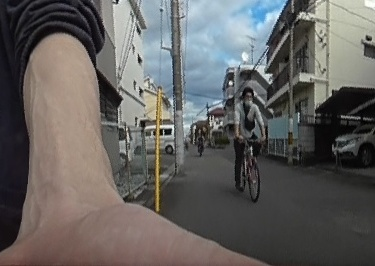person: (230, 87, 264, 180), (196, 133, 205, 155)
